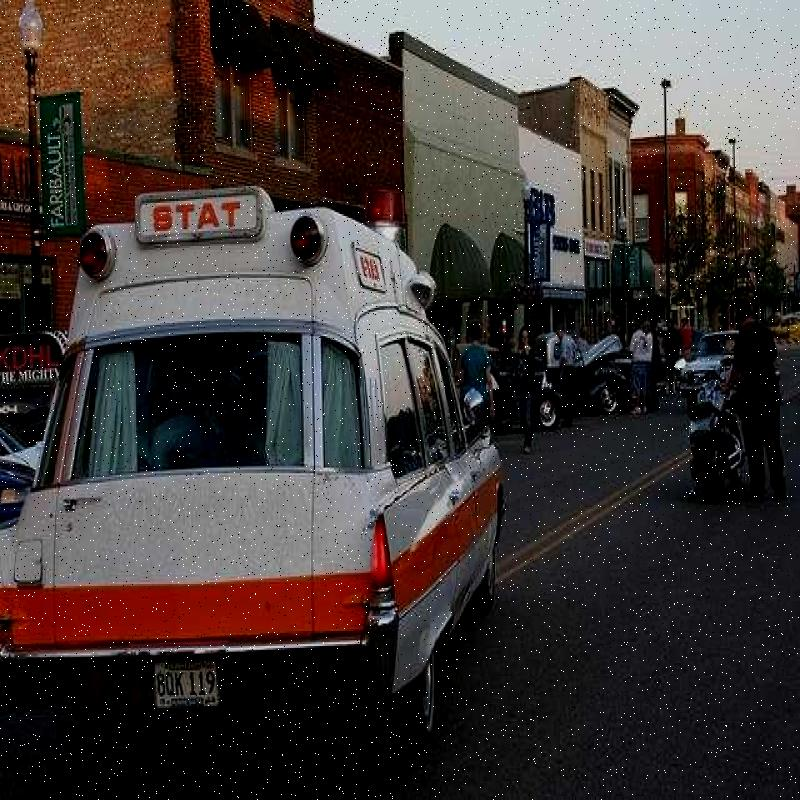AmbulanceSiren: (364, 151, 414, 267)
